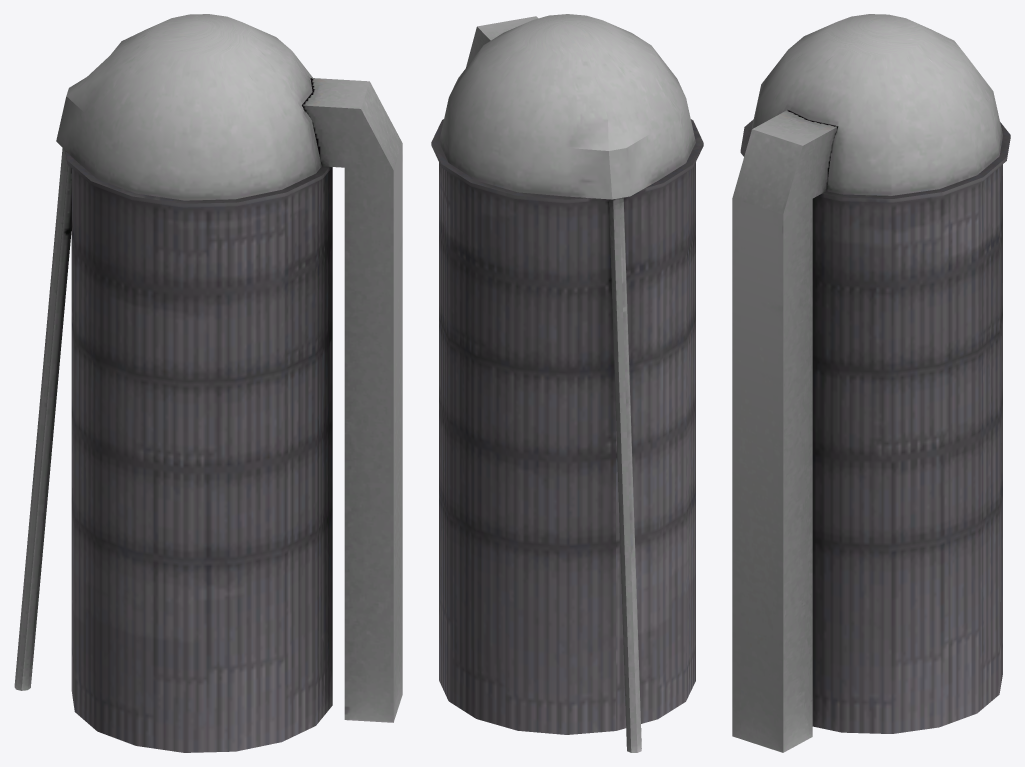
Rendered from silo.dae.
The picture shows the model from 3 angles, left to right: view 1: azimuth 30°, elevation 25°; view 2: azimuth 150°, elevation 25°; view 3: azimuth 270°, elevation 25°; orthographic projection. The views are drawn at different scales.
Visible parts, largest first — view 1: farm_silo.001; view 2: farm_silo.001; view 3: farm_silo.001.
Boxes of the visible parts, x1,y1,x2,y2 form: farm_silo.001: [14, 14, 402, 752]; farm_silo.001: [431, 14, 703, 752]; farm_silo.001: [732, 14, 1010, 752].
Bounding box in the file's own units: 4.17 × 3.63 × 9.42.
Materials: 1 (1 with a texture image).
